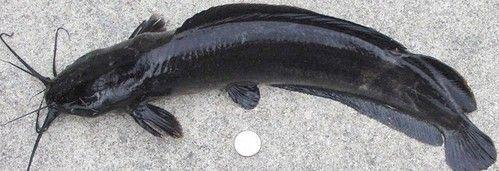Catfish: (11, 3, 497, 169)
